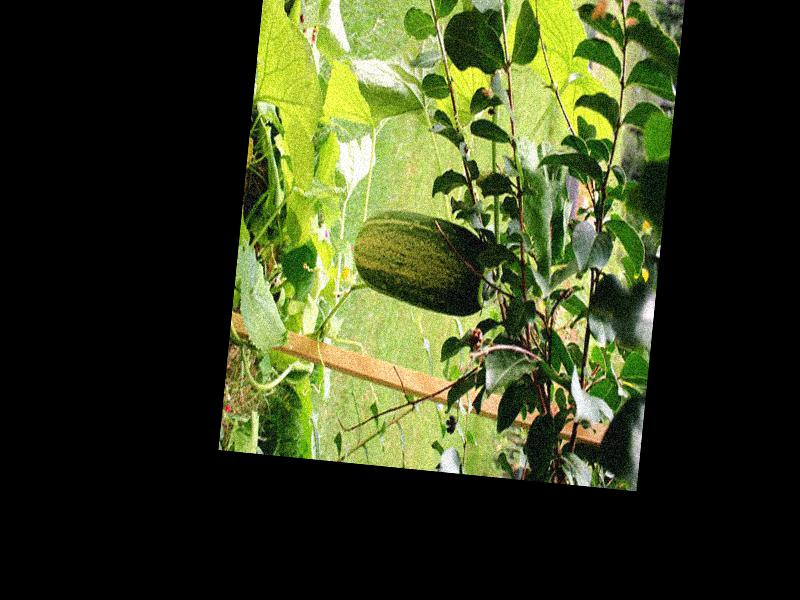Cucumber: (347, 208, 505, 321)
